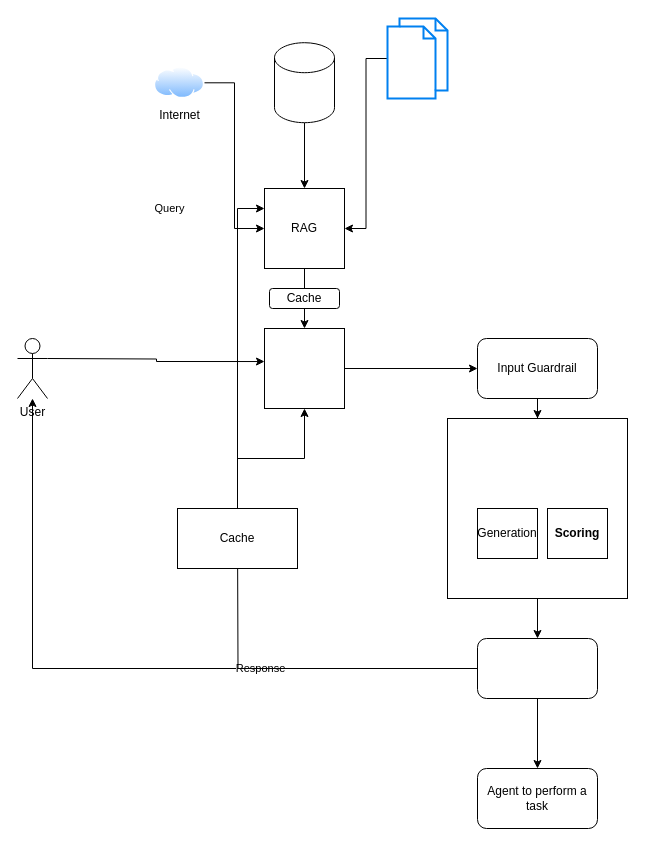
The diagram is 645 pixels wide and 846 high, and some of its shapes have lost their labels. Here are the shapes that lost their labels. From the top down, the box of each, then its label:
(386, 17, 448, 99): Other documentations
(274, 42, 334, 123): Vector Database
(264, 328, 344, 408): Context Construction
(446, 418, 628, 598): LLM
(476, 638, 598, 698): Output Guardrail
